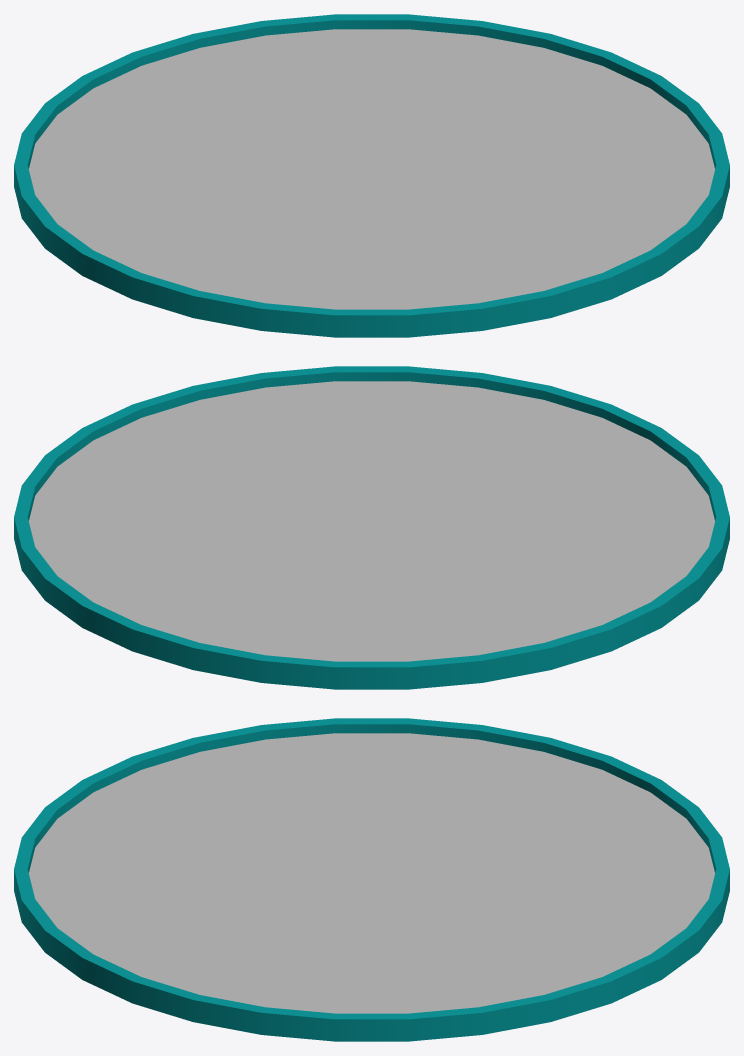
File: SFI0510012.fbx
The picture shows the model from 3 angles, top to bottom: view 1: azimuth 30°, elevation 25°; view 2: azimuth 150°, elevation 25°; view 3: azimuth 270°, elevation 25°; orthographic projection.
Visible parts, largest first — view 1: smSFI0510012; view 2: smSFI0510012; view 3: smSFI0510012.
Boxes of the visible parts, <box> form: smSFI0510012: <box>14,14,729,337</box>; smSFI0510012: <box>14,366,729,689</box>; smSFI0510012: <box>14,718,729,1041</box>.
Bounding box in the file's own units: 199 × 6.83 × 200.
